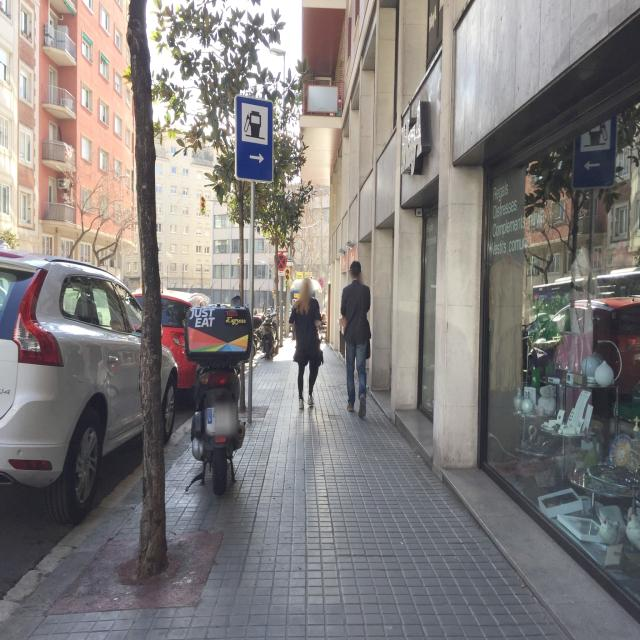bike: (186, 302, 253, 498), (252, 313, 276, 361)
car: (0, 248, 179, 527), (127, 290, 211, 408)
